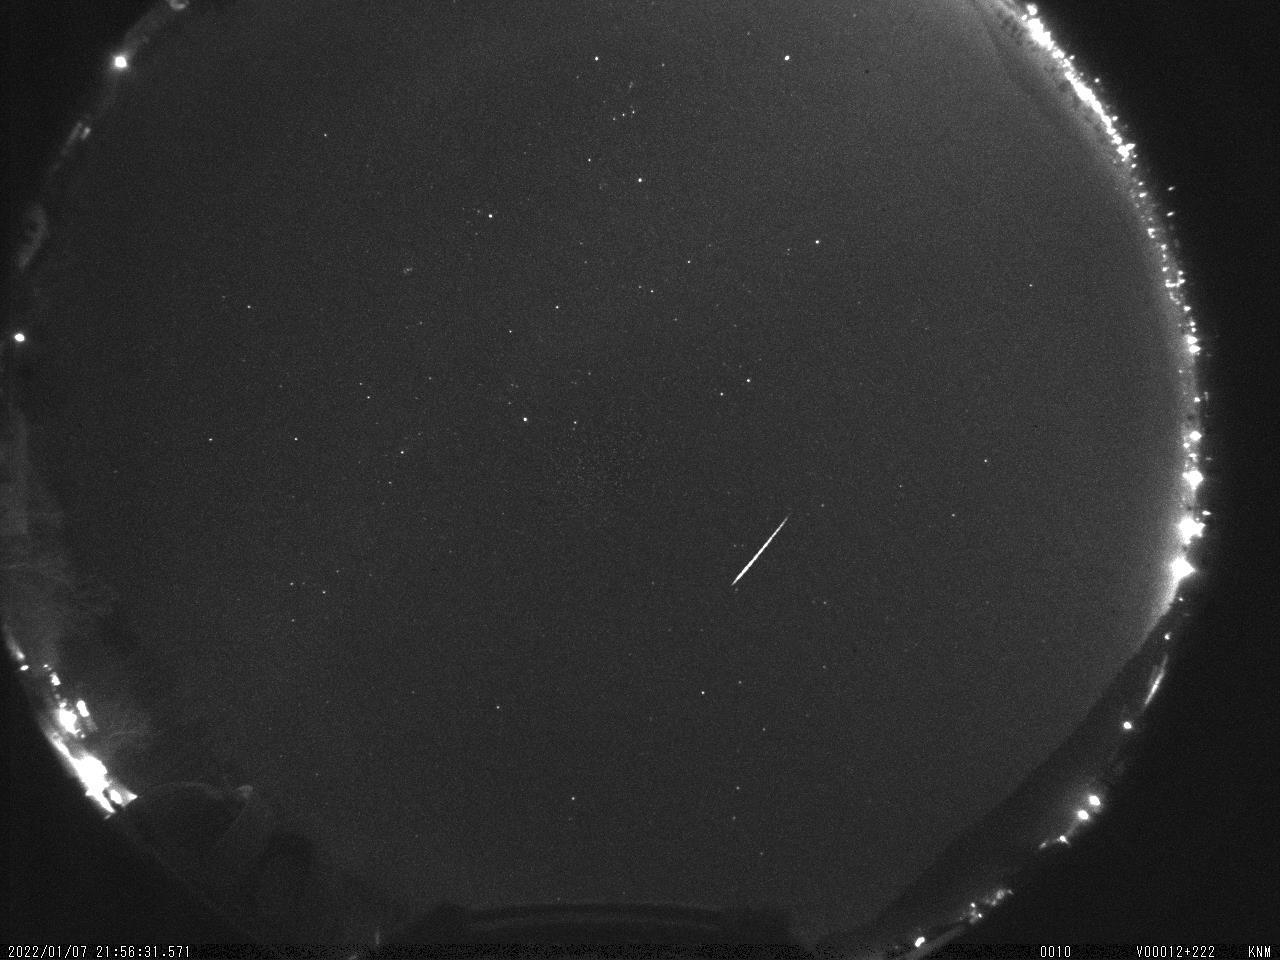Meteor: (729, 510, 791, 589)
